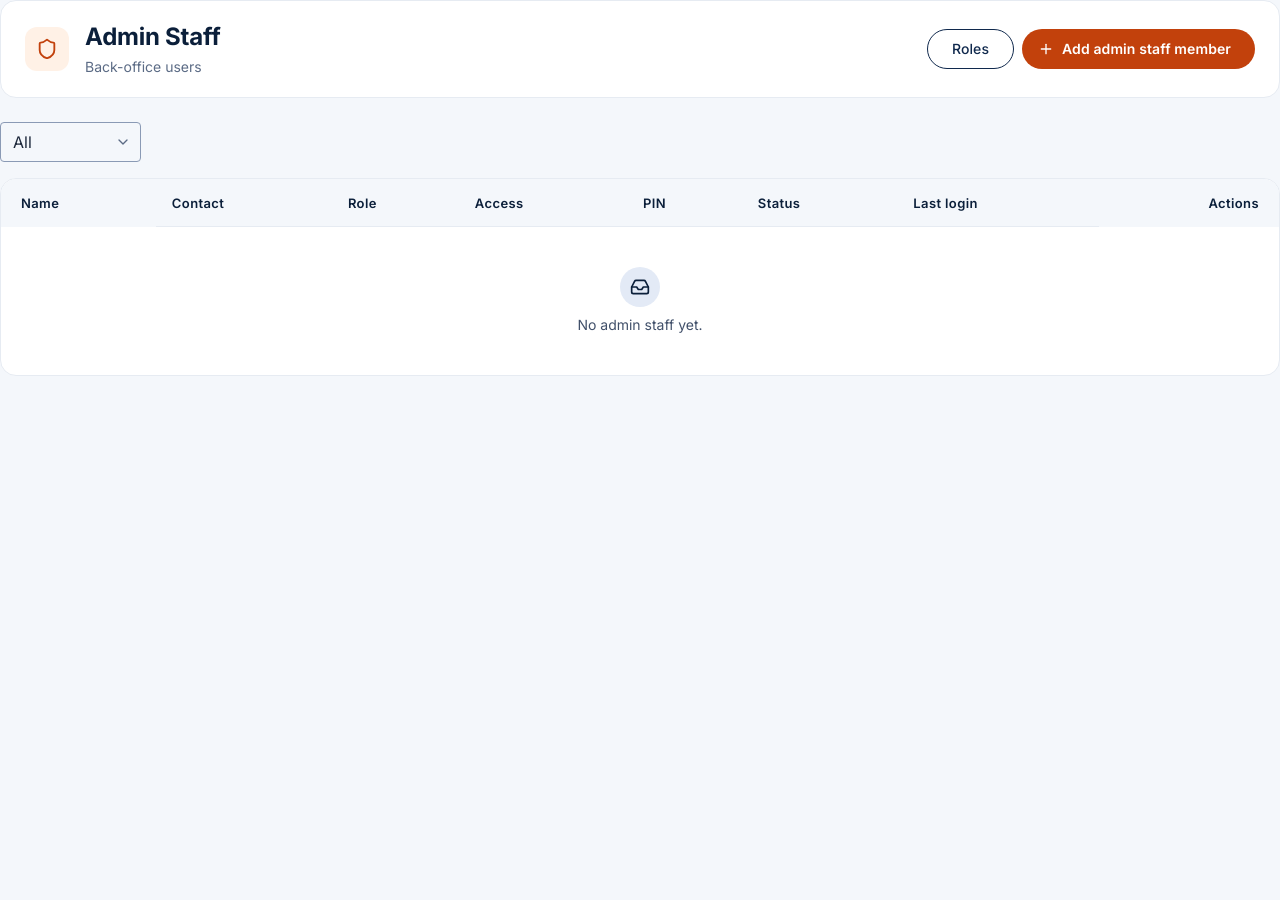
Admin Staff (S16) › keeps the actions column in view and warns when the role cannot open the admin
The width and height of the screenshot is (1280, 900).
expect the element that starts with "Name" is shown: met, box [1,179,1279,375]
Click the button "Add admin staff member". click: {"x": 1138, "y": 49}
box: [1022,29,1255,69]
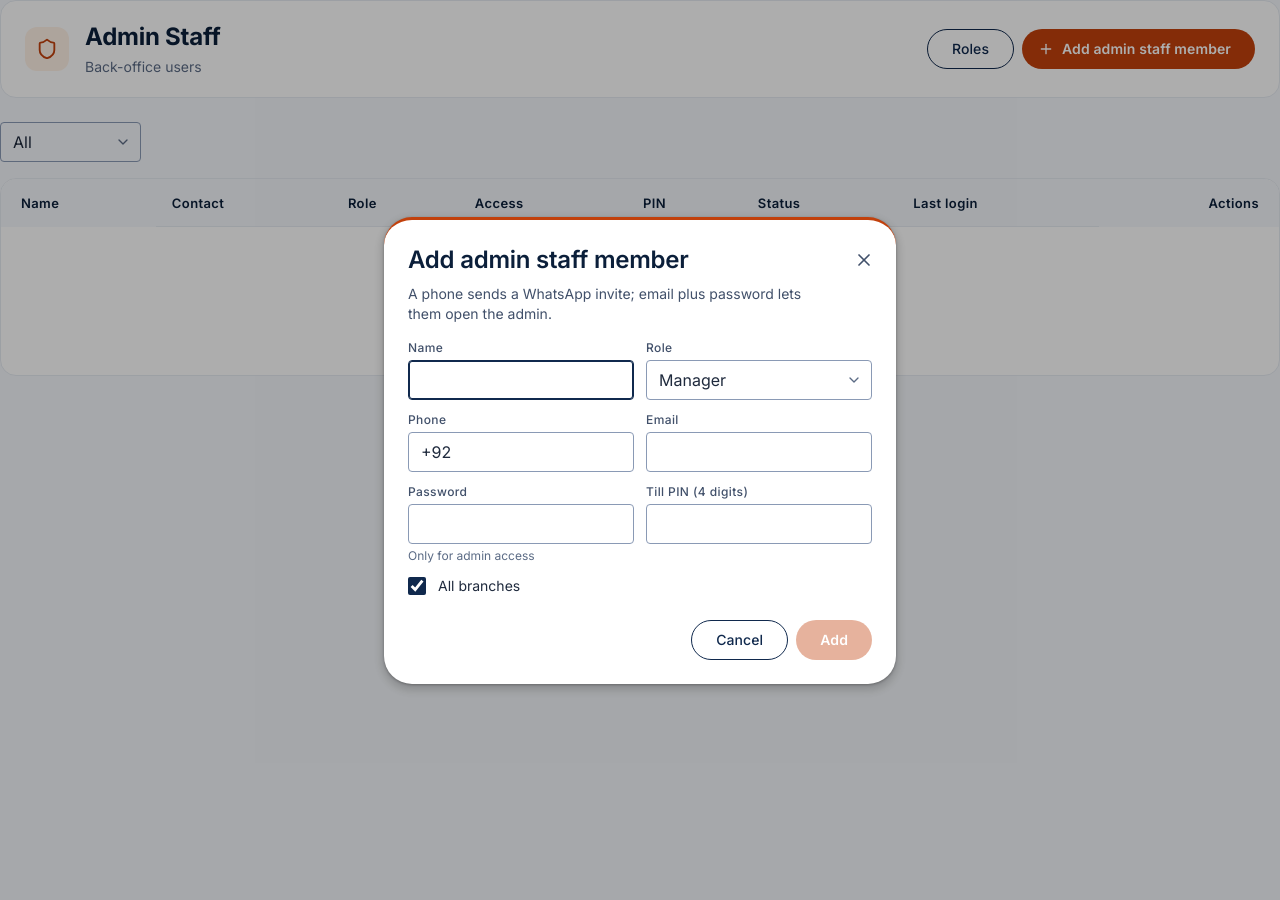
expect the text "cannot open the admin panel" is not shown: met
expect the dropdown labelled "Role" shows "Manager": met
Select "Waiter" in the dropdown labelled "Role". click: {"x": 759, "y": 380}
box: [646,360,872,400]
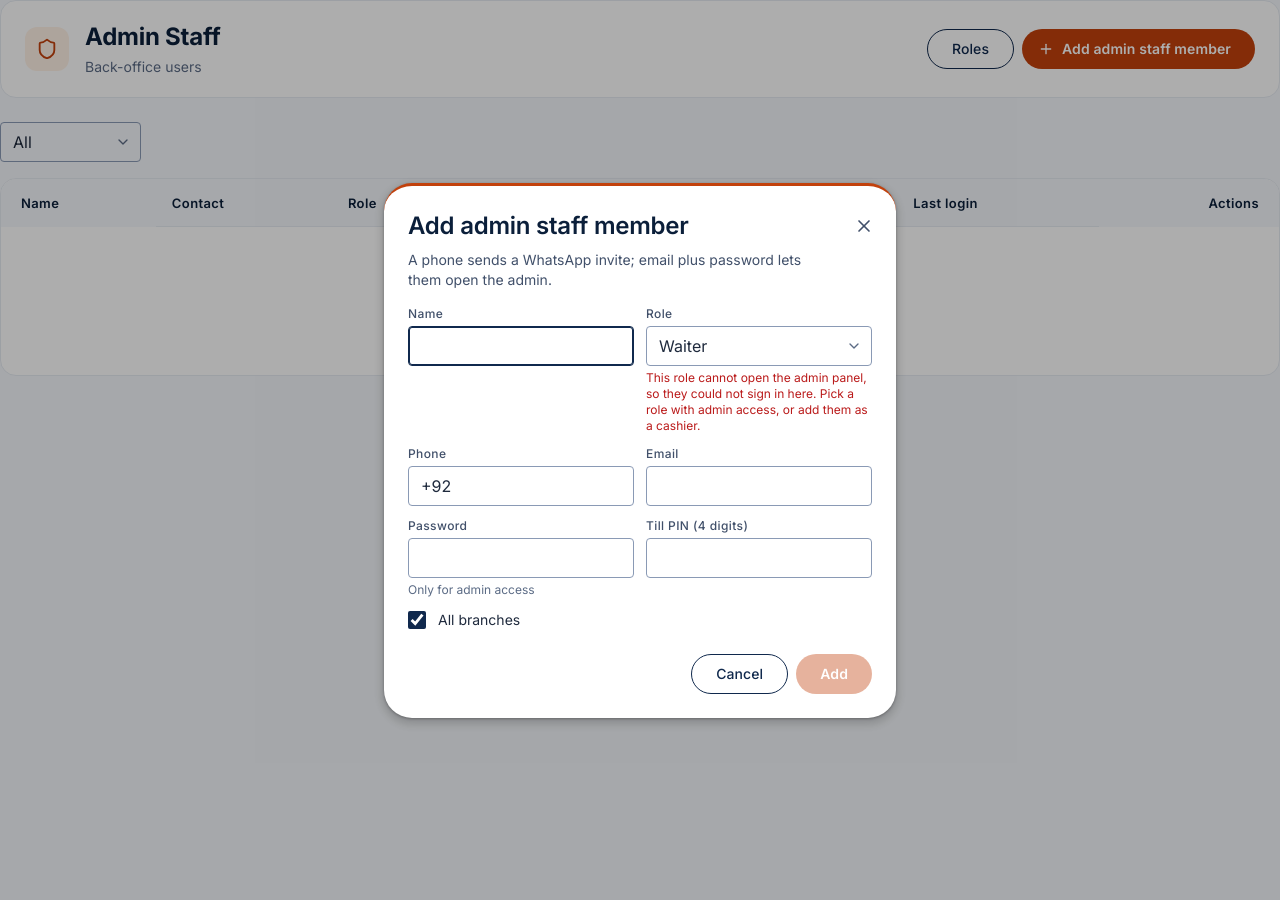
expect the text "cannot open the admin panel" is shown: met, box [646,370,868,432]
